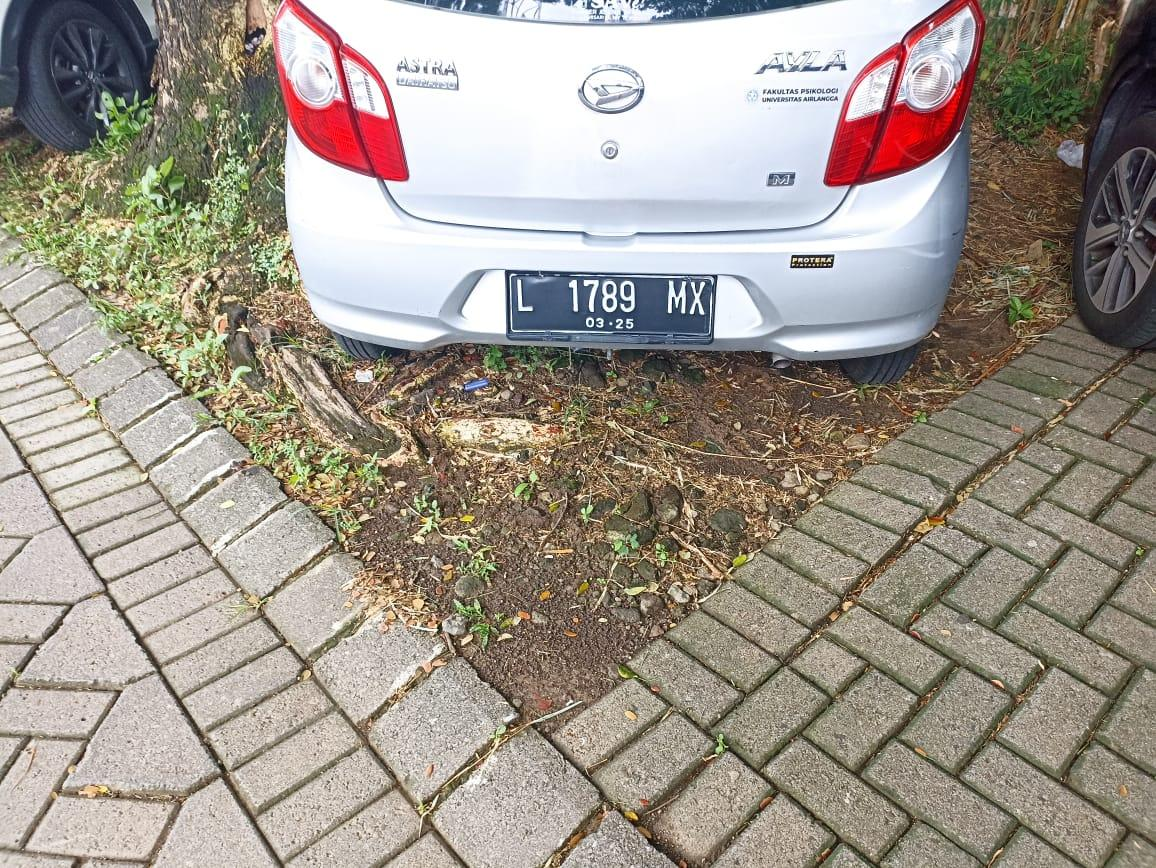plat: (506, 271, 716, 343)
